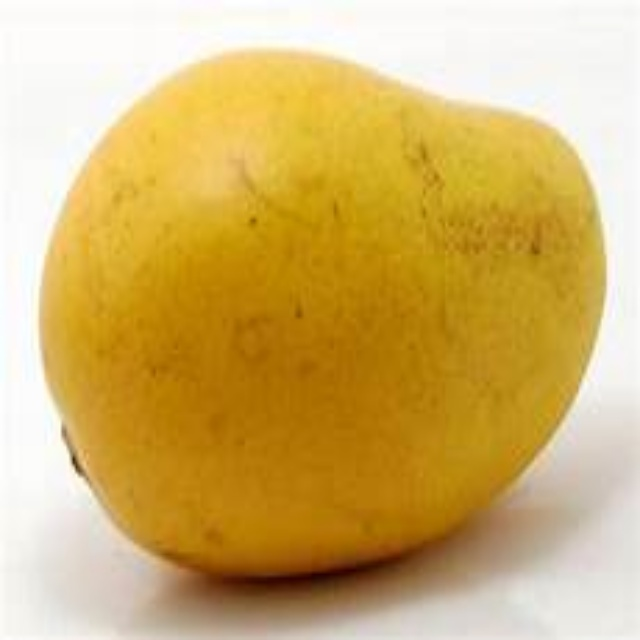mango: (45, 50, 619, 582)
